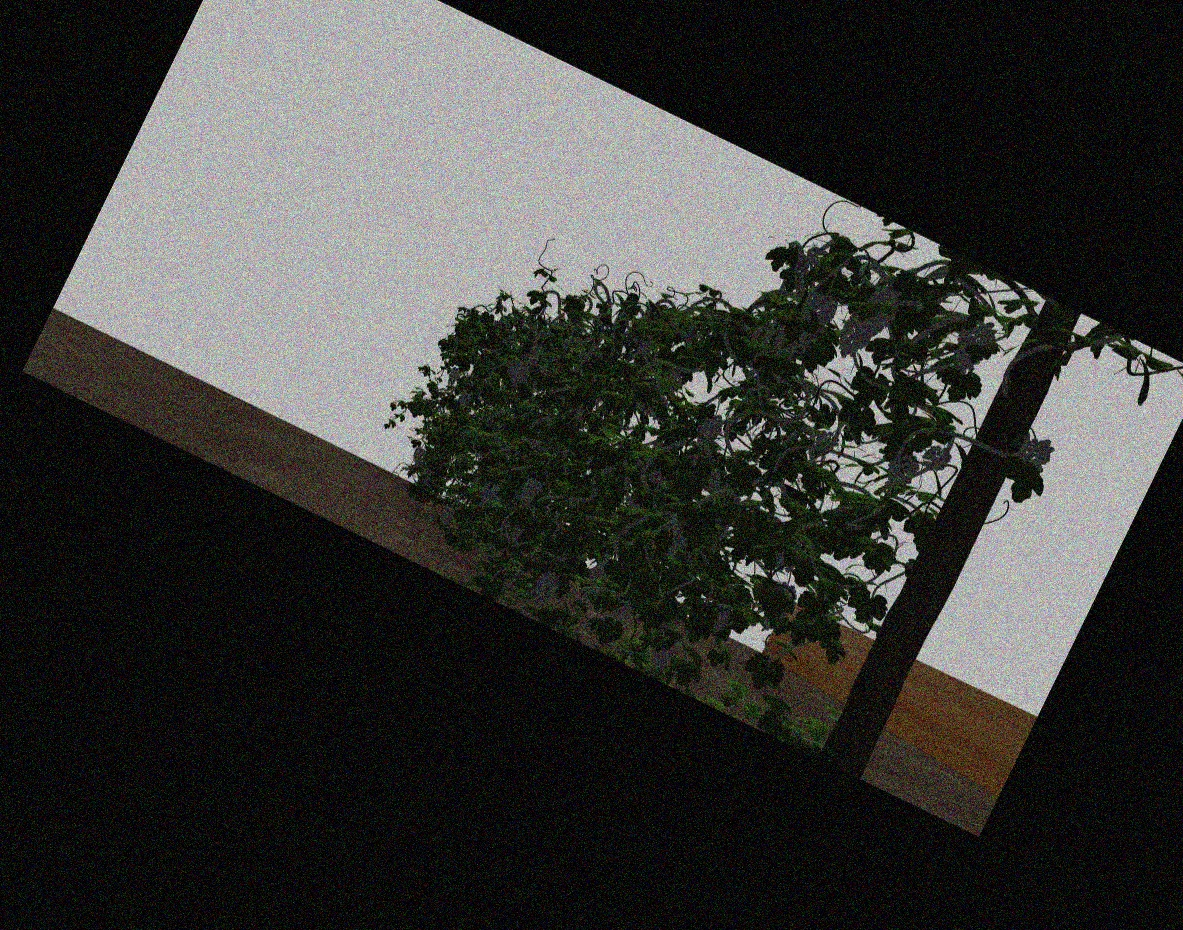grape: (958, 318, 988, 373), (864, 286, 895, 334), (837, 315, 867, 358), (805, 292, 833, 327), (1024, 435, 1052, 468), (889, 454, 915, 486), (534, 571, 554, 608), (698, 412, 720, 444), (922, 444, 948, 471), (589, 558, 607, 593), (653, 640, 671, 669), (608, 600, 630, 623), (520, 477, 539, 501), (479, 479, 496, 505), (509, 362, 526, 386), (711, 609, 726, 634), (437, 506, 452, 526), (446, 367, 459, 385), (457, 390, 469, 409), (420, 466, 432, 484), (411, 447, 422, 463)
